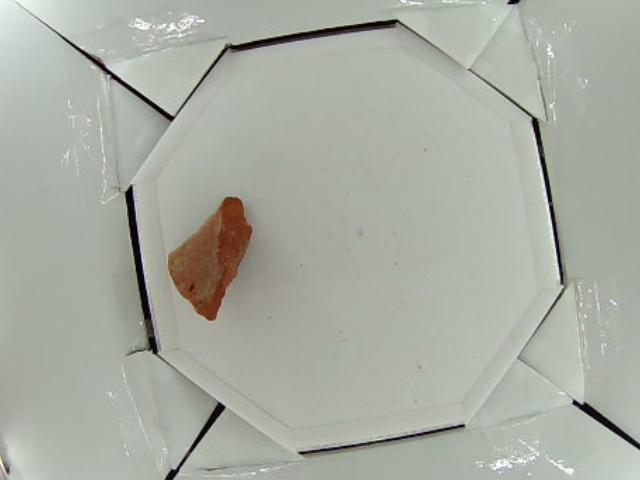Brisk: (168, 196, 252, 319)
